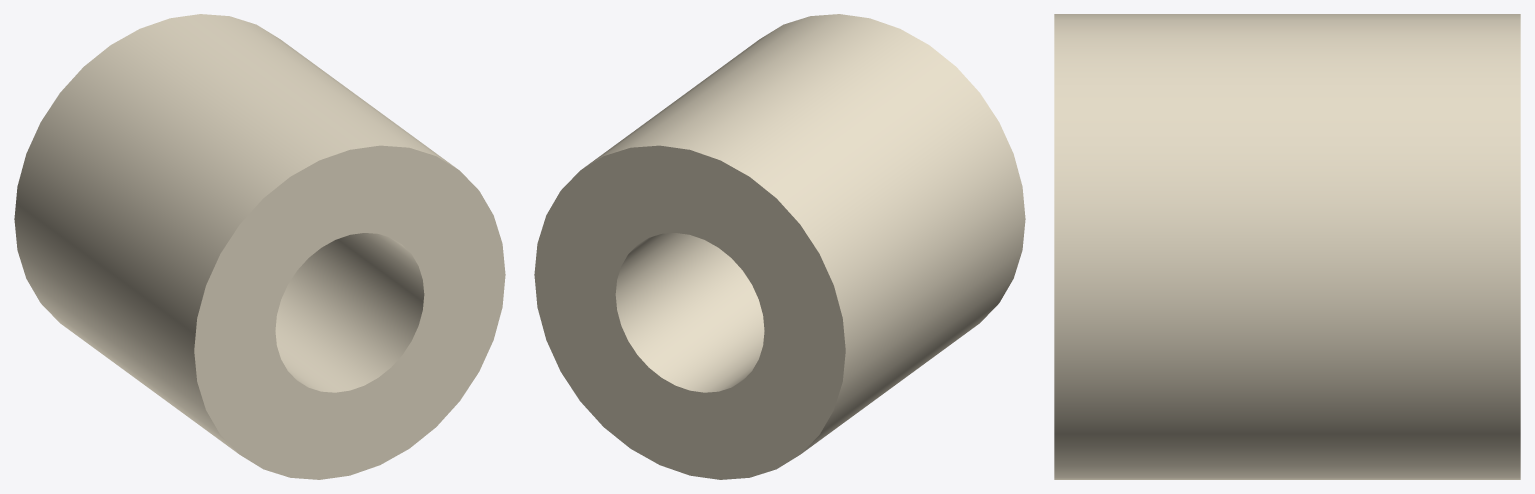
Rendered from SM_Nampkin.fbx.
3 renders of one model, left to right at view 1: azimuth 30°, elevation 25°; view 2: azimuth 150°, elevation 25°; view 3: azimuth 270°, elevation 25°, orthographic. The views are drawn at different scales.
Parts seen in each view (by area): view 1: Cylinder; view 2: Cylinder; view 3: Cylinder.
Boxes of the visible parts, x1=… form: Cylinder: x1=14, y1=14, x2=505, y2=479; Cylinder: x1=534, y1=14, x2=1025, y2=479; Cylinder: x1=1054, y1=14, x2=1520, y2=479.
Bounding box in the file's own units: 20 × 20 × 20.
